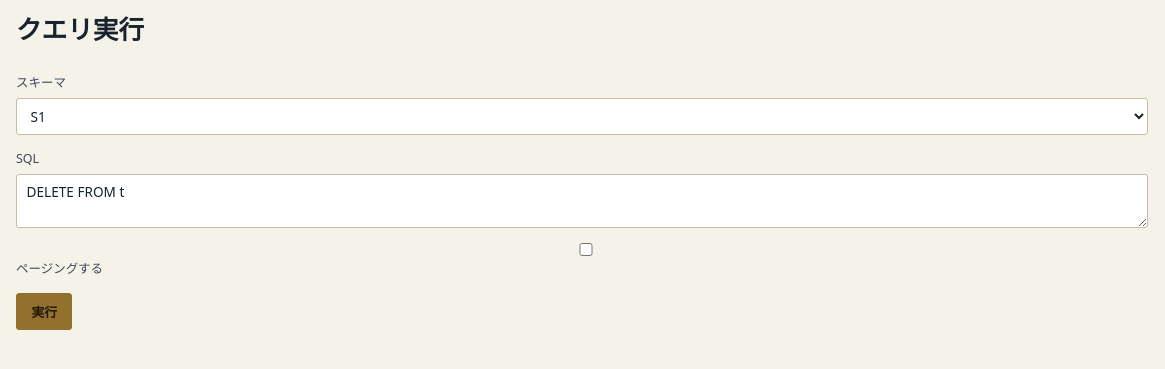
Test case: QueryExecutionPage › shows an error message when execution fails validation
Check: the dropdown with test id "query-execution-page-schema-select" is shown, box [16,98,1148,135]
Step 1. Click the button with test id "query-execution-page-execute-button" → click(44, 312), box [16,293,72,330]
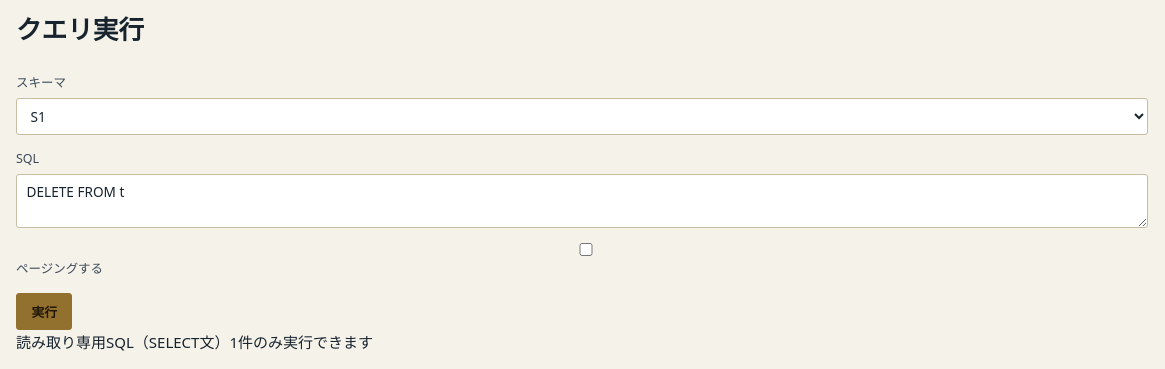
Check: the message with test id "query-execution-page-error" reads "読み取り専用SQL（SELECT文）1件のみ実行できます", box [16,332,373,352]
